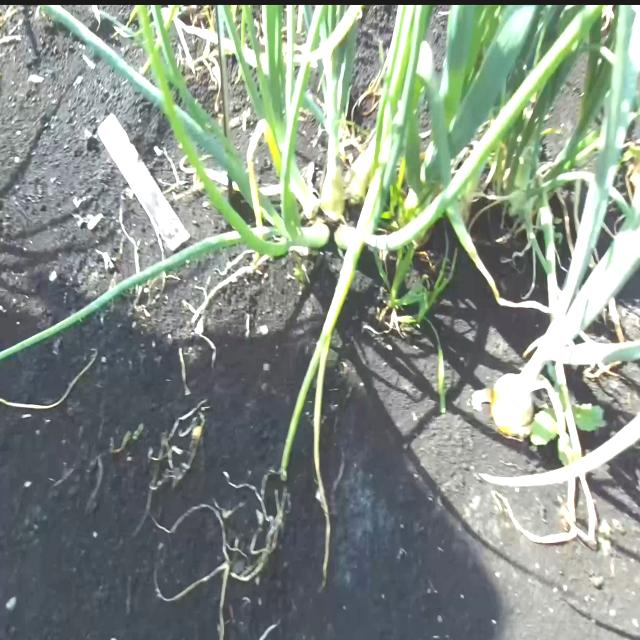onion: (490, 369, 535, 440)
